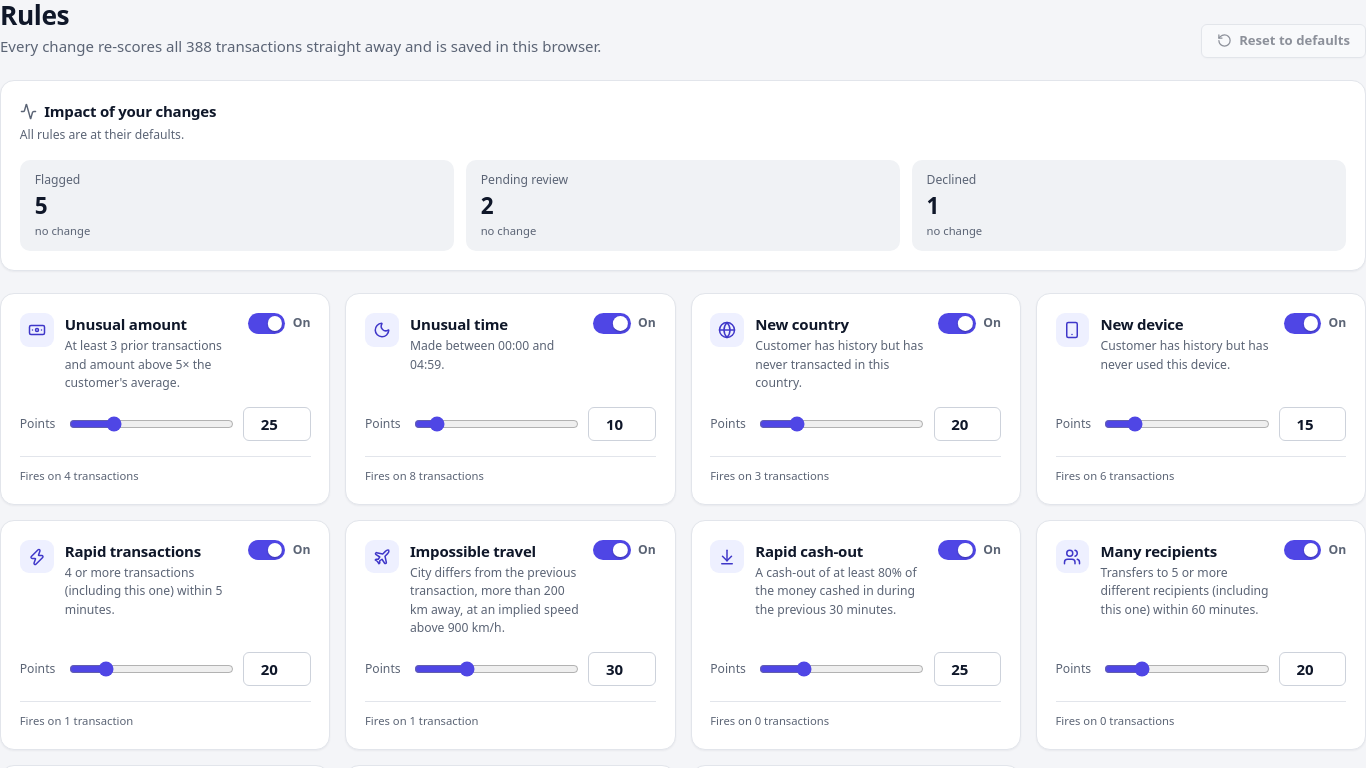
Test: Rules page › turning a rule off re-scores and shows the impact against defaults
Click the switch labelled "On" next to "Unusual amount" at (267, 323), box [248,313,285,334]
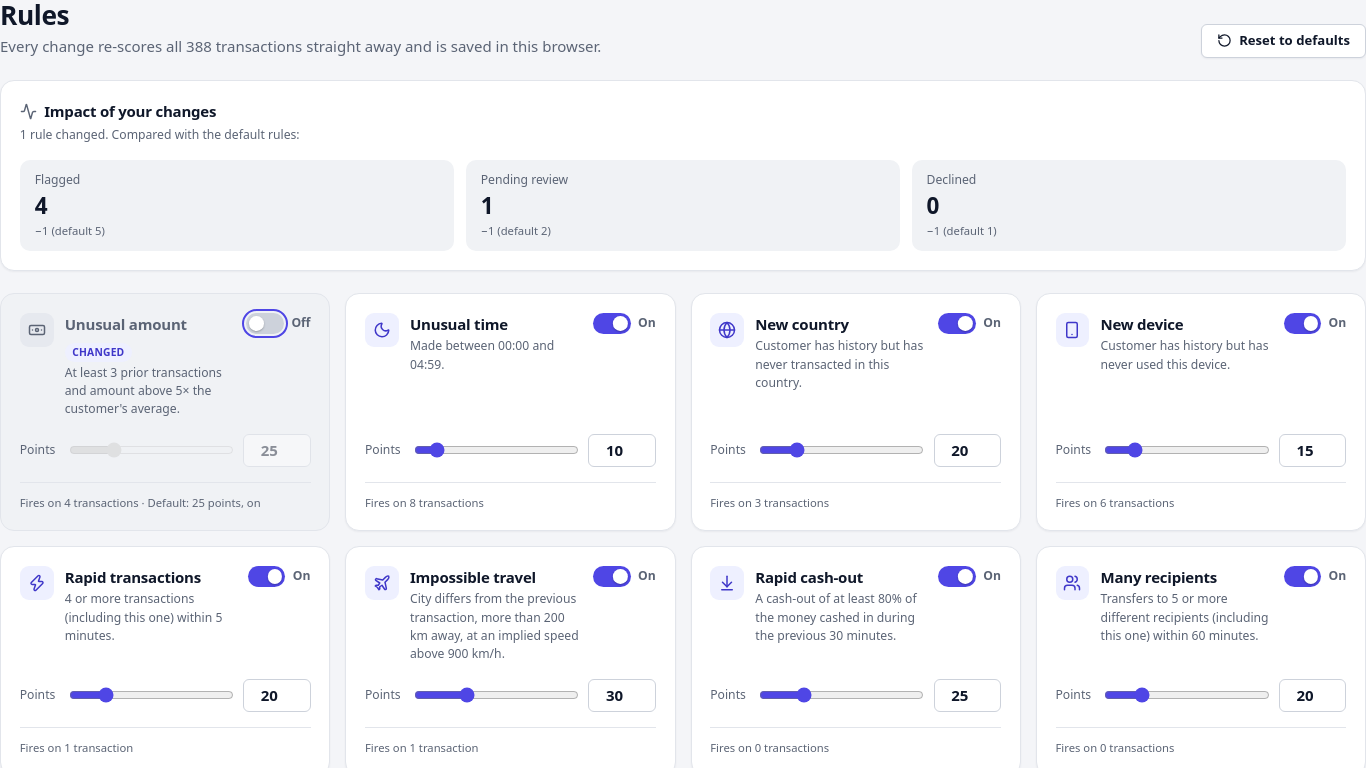
Expected: the text "Off" is shown, [291,314,310,332]
Expected: the text "Changed" is shown, [65,343,132,362]
Expected: the number field labelled "Points" below "Unusual amount" is disabled, [243,434,310,467]
